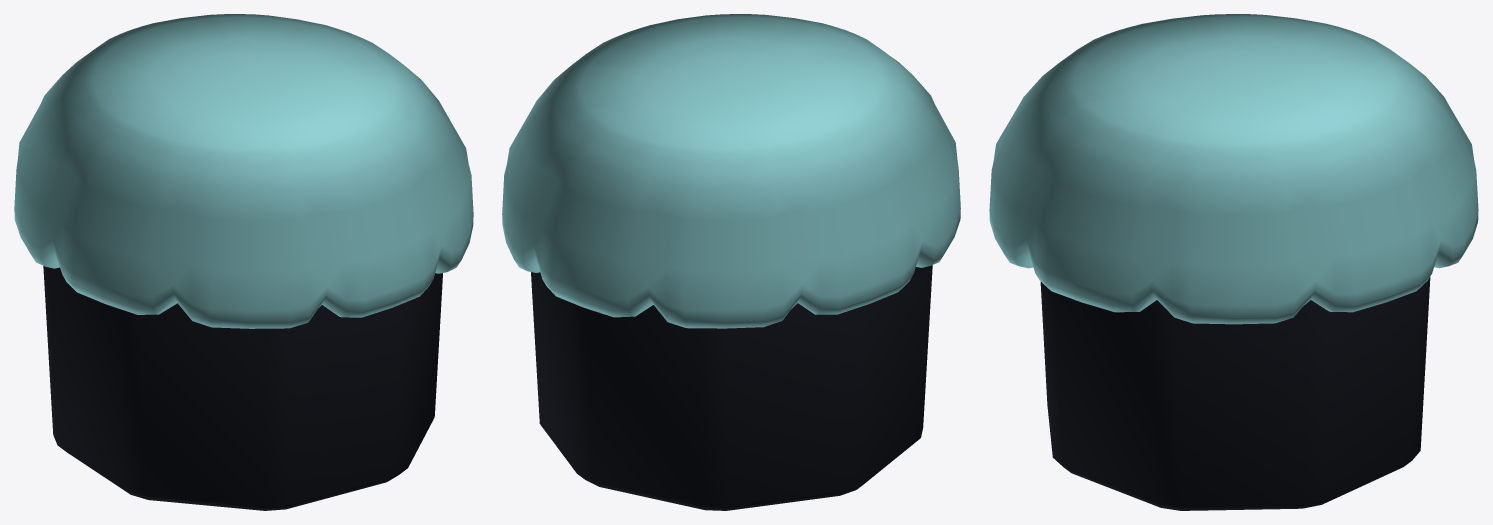
Rendered from plateforme_rock_02.fbx.
The picture shows the model from 3 angles, left to right: view 1: azimuth 30°, elevation 25°; view 2: azimuth 150°, elevation 25°; view 3: azimuth 270°, elevation 25°; orthographic projection.
Parts seen in each view (by area): view 1: Toit001, Sphere015; view 2: Toit001, Sphere015; view 3: Toit001, Sphere015.
Boxes of the visible parts, left/top/right/bottom form: Toit001: left=14, top=14, right=473, bottom=328; Sphere015: left=43, top=266, right=442, bottom=510; Toit001: left=502, top=14, right=960, bottom=328; Sphere015: left=531, top=265, right=932, bottom=510; Toit001: left=989, top=14, right=1478, bottom=324; Sphere015: left=1040, top=277, right=1430, bottom=510.
Size of the model in its own units: 537 by 479 by 580.
